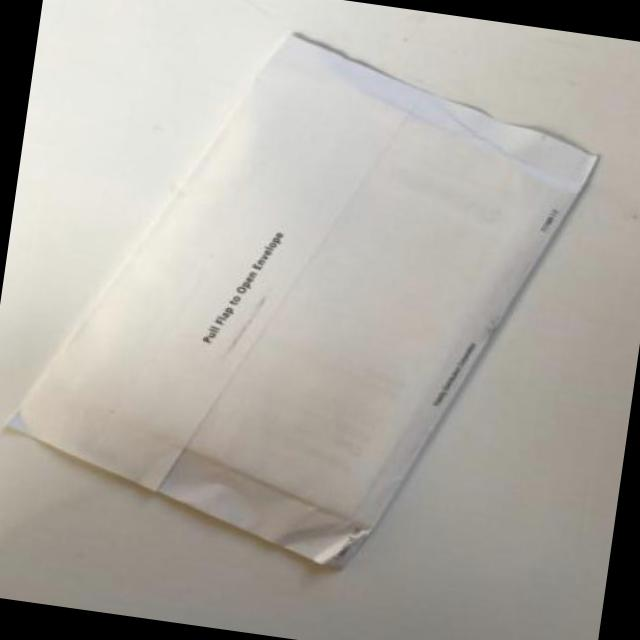cardboard paper: (12, 34, 598, 565)
